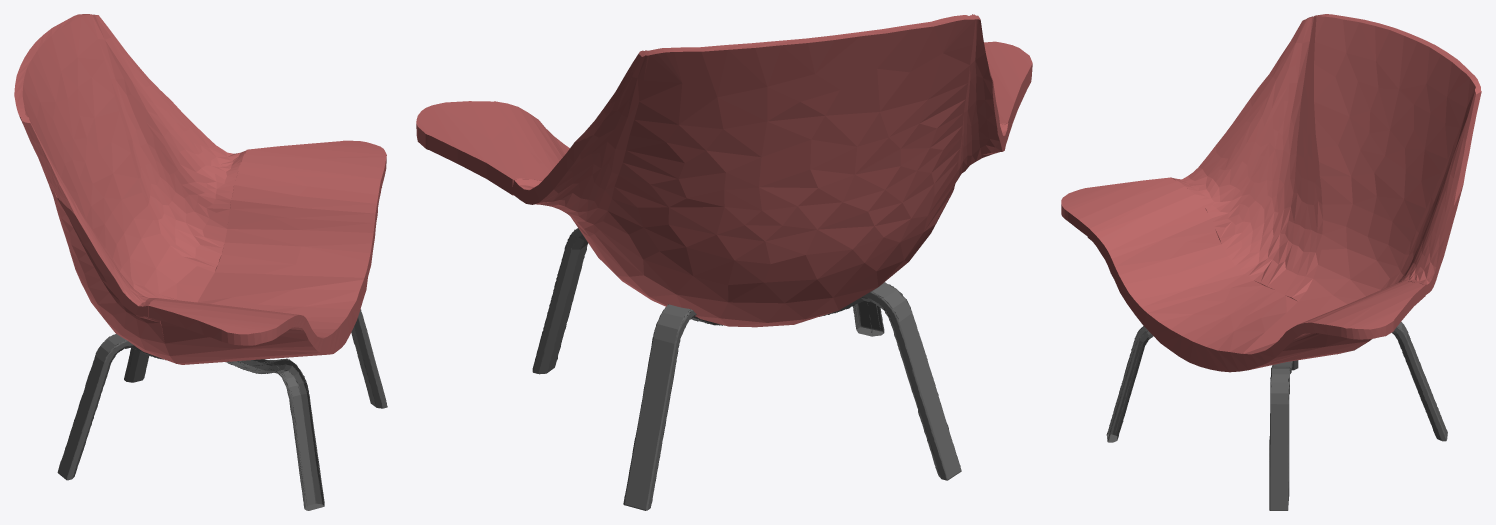
3 views of the same model, side by side, from view 1: azimuth 30°, elevation 25°; view 2: azimuth 150°, elevation 25°; view 3: azimuth 270°, elevation 25° (orthographic). The views are drawn at different scales.
Size of the model in its own units: 0.9809 by 0.883 by 0.9771.
